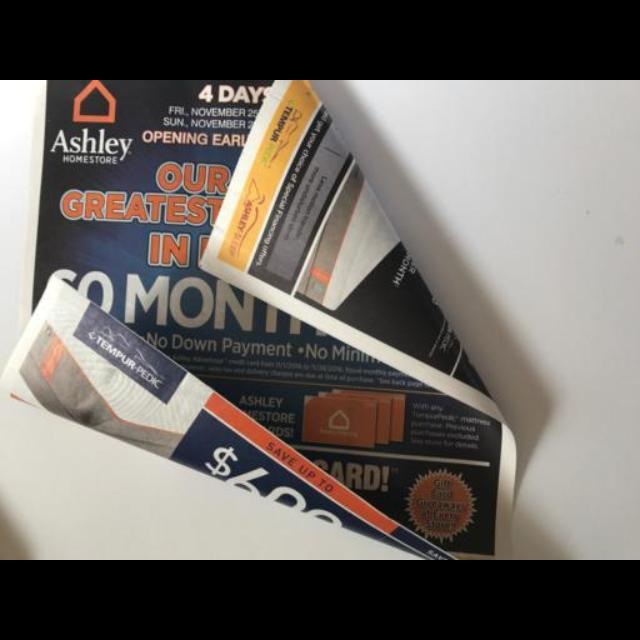papel: (7, 80, 520, 560)
